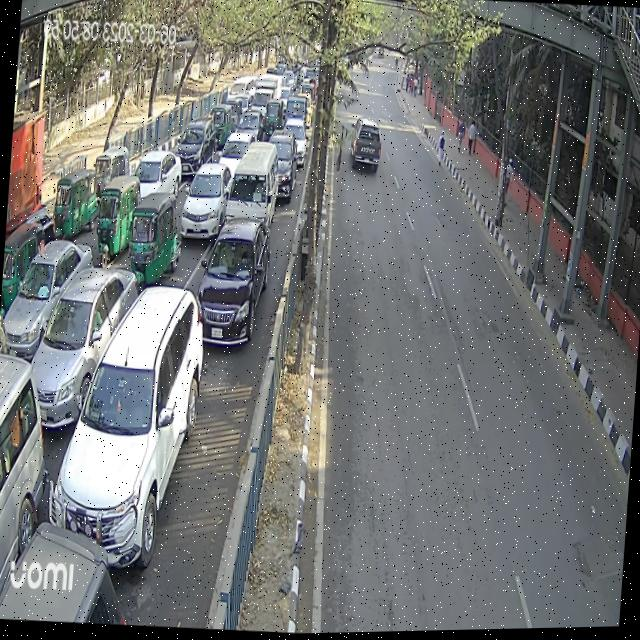cng: (125, 184, 187, 285), (90, 177, 150, 266), (0, 209, 48, 315), (48, 175, 104, 242), (94, 139, 134, 198), (208, 101, 236, 152), (263, 100, 285, 145)
